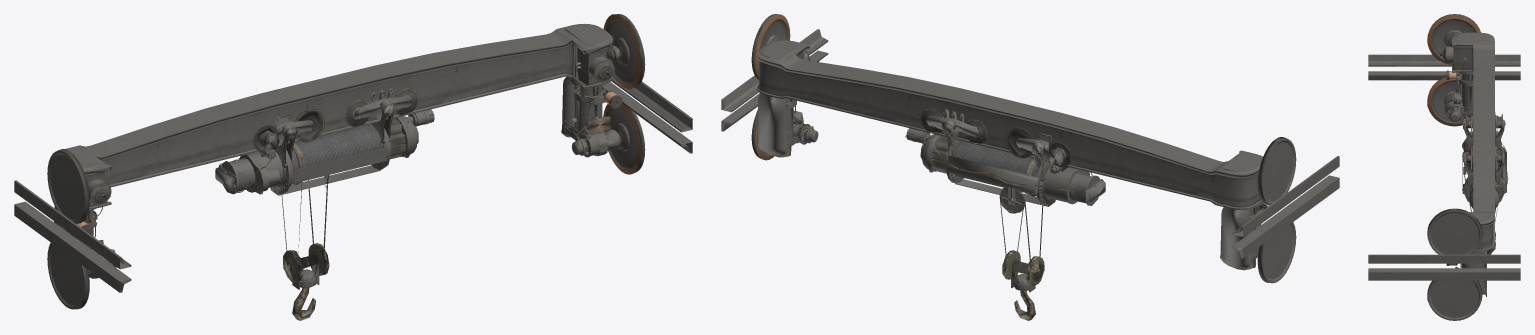
The model's file is overhead_crane.glb.
3 views of the same model, side by side, from view 1: azimuth 30°, elevation 25°; view 2: azimuth 150°, elevation 25°; view 3: azimuth 270°, elevation 25° (orthographic). The views are drawn at different scales.
Visible parts, largest first — view 1: overhead_crane, overhead_crane_winch, overhead_crane_rails; view 2: overhead_crane, overhead_crane_winch, overhead_crane_rails; view 3: overhead_crane, overhead_crane_rails, overhead_crane_winch.
Boxes of the visible parts, x1,y1,x2,y2 form: overhead_crane: (47,14,645,309); overhead_crane_winch: (215,88,434,320); overhead_crane_rails: (14,77,692,292); overhead_crane: (751,14,1296,283); overhead_crane_winch: (905,108,1105,320); overhead_crane_rails: (721,29,1339,258); overhead_crane: (1427,14,1494,320); overhead_crane_rails: (1368,54,1520,280); overhead_crane_winch: (1462,112,1508,254).
Bounding box in the file's own units: 12.49 × 5.12 × 4.
2 materials, 2 textured.
